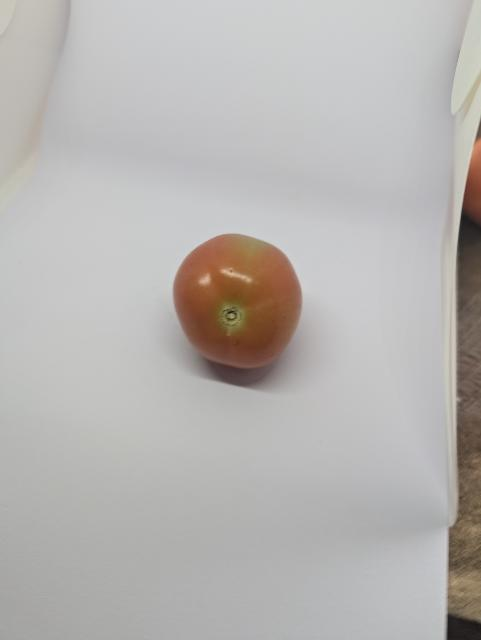turning: (168, 227, 311, 380)
